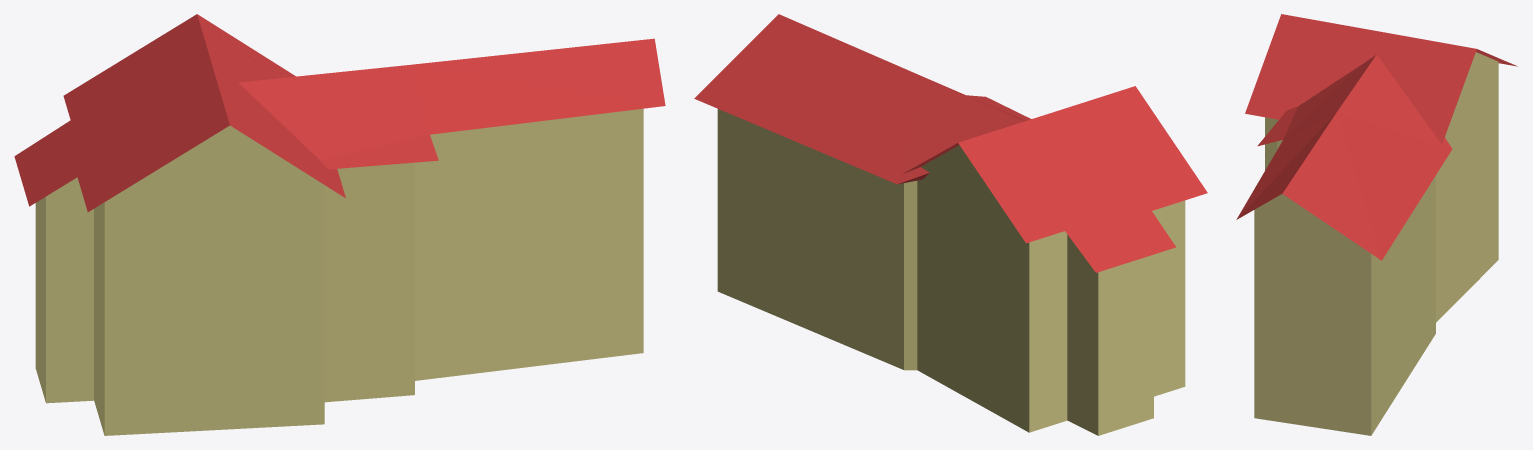
The picture shows the model from 3 angles, left to right: view 1: azimuth 30°, elevation 25°; view 2: azimuth 150°, elevation 25°; view 3: azimuth 270°, elevation 25°; orthographic projection. The views are drawn at different scales.
Parts seen in each view (by area): view 1: group_5, group_10, group_7, group_3, group_9, group_4; view 2: group_5, group_10, group_3, group_7, group_9, group_4; view 3: group_10, group_7, group_3, group_5, group_9, group_4.
Part boxes in pixels (bbox=[...]): group_5: bbox=[35, 125, 337, 435]; group_10: bbox=[337, 108, 643, 401]; group_7: bbox=[238, 38, 665, 169]; group_3: bbox=[14, 14, 345, 211]; group_9: bbox=[319, 39, 665, 159]; group_4: bbox=[15, 19, 343, 196]; group_5: bbox=[903, 145, 1185, 435]; group_10: bbox=[717, 109, 903, 369]; group_3: bbox=[902, 86, 1207, 272]; group_7: bbox=[694, 14, 1031, 183]; group_9: bbox=[699, 16, 985, 184]; group_4: bbox=[904, 87, 1183, 271]; group_10: bbox=[1254, 140, 1435, 435]; group_7: bbox=[1237, 54, 1452, 260]; group_3: bbox=[1245, 14, 1517, 144]; group_5: bbox=[1265, 52, 1498, 322]; group_9: bbox=[1236, 106, 1451, 259]; group_4: bbox=[1248, 36, 1474, 142].
Bounding box in the file's own units: 26.53 × 13.8 × 13.44.
